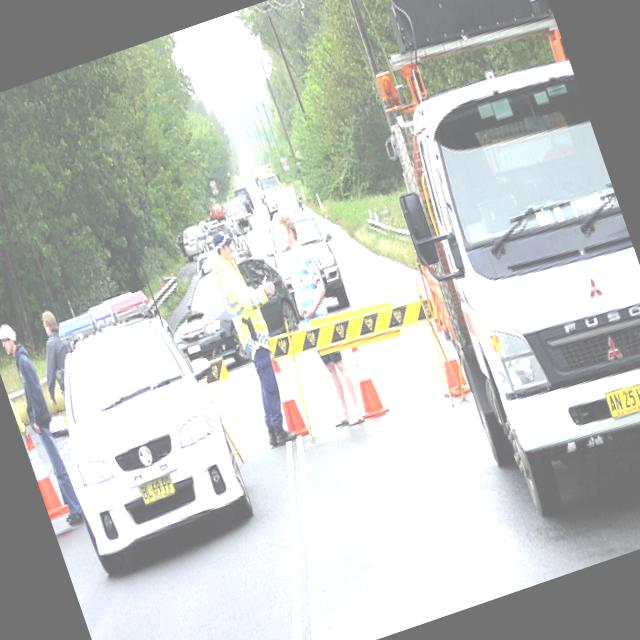Vehicle: (344, 0, 640, 546), (19, 275, 257, 573), (147, 198, 364, 380), (189, 214, 233, 258), (218, 194, 254, 236), (174, 222, 206, 260), (270, 184, 304, 218), (233, 184, 256, 217)
